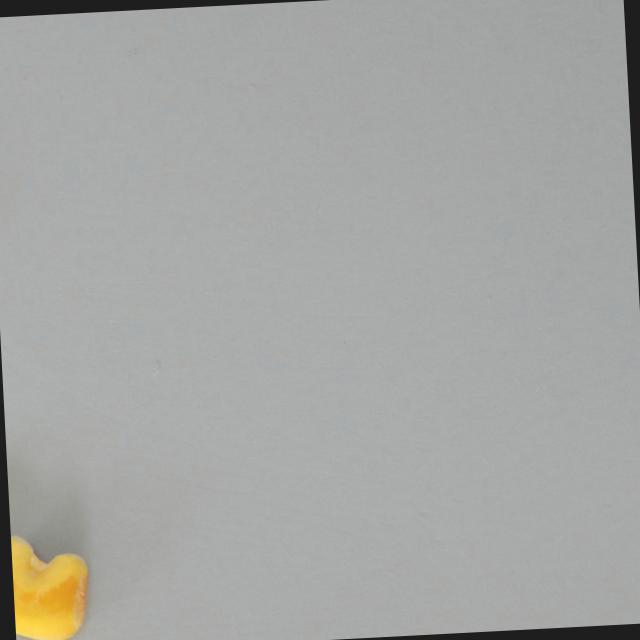dañado: (11, 526, 97, 640)
